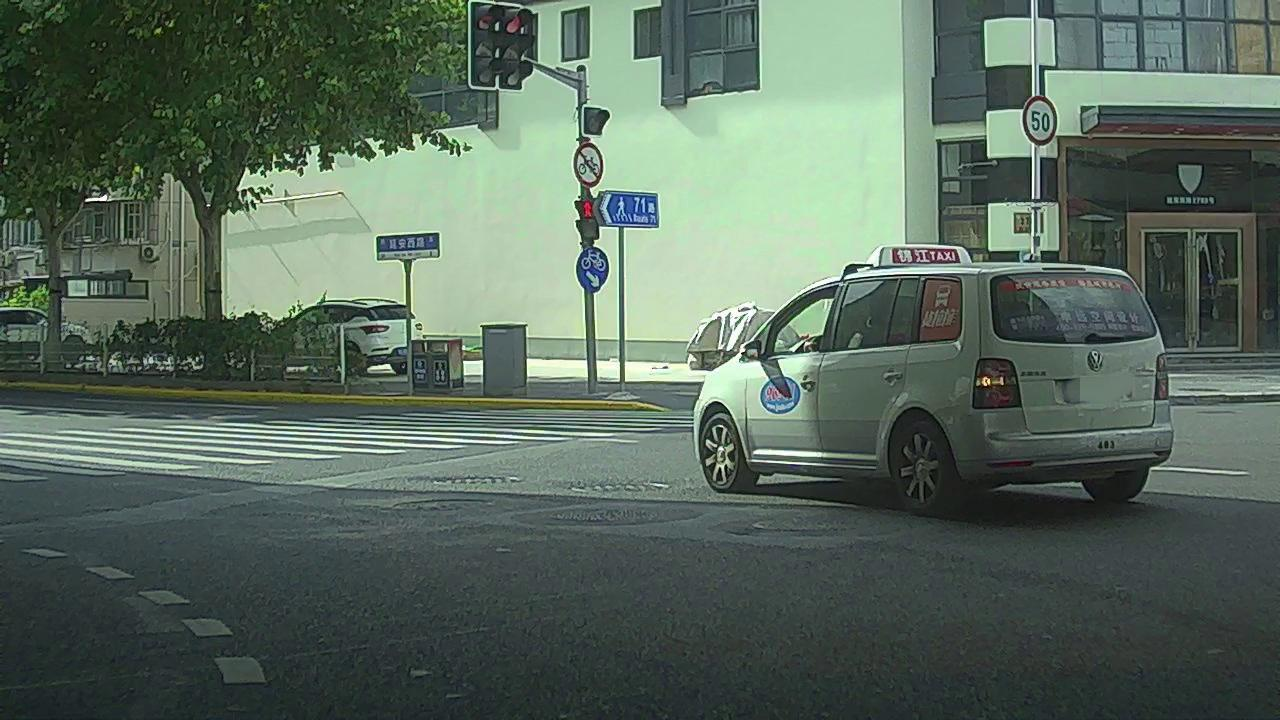traffic_light: (503, 4, 525, 87)
